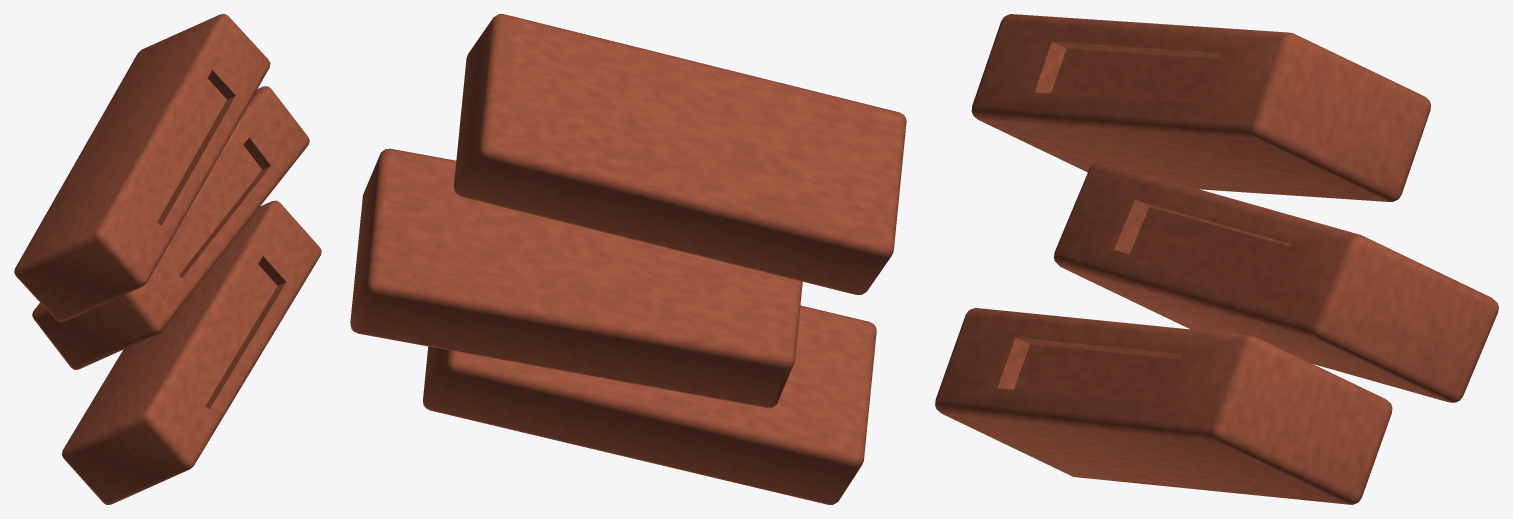
3 renders of one model, left to right at view 1: azimuth 30°, elevation 25°; view 2: azimuth 150°, elevation 25°; view 3: azimuth 270°, elevation 25°, orthographic. The views are drawn at different scales.
Visible parts, largest first — view 1: Fired brick 0; view 2: Fired brick 0; view 3: Fired brick 0.
Part boxes in pixels (<box>): Fired brick 0: <box>14,14,321,504</box>; Fired brick 0: <box>350,14,906,504</box>; Fired brick 0: <box>935,14,1498,504</box>.
Size of the model in its own units: 1.33 by 1.4 by 1.24.
Materials: 1 (1 with a texture image).
